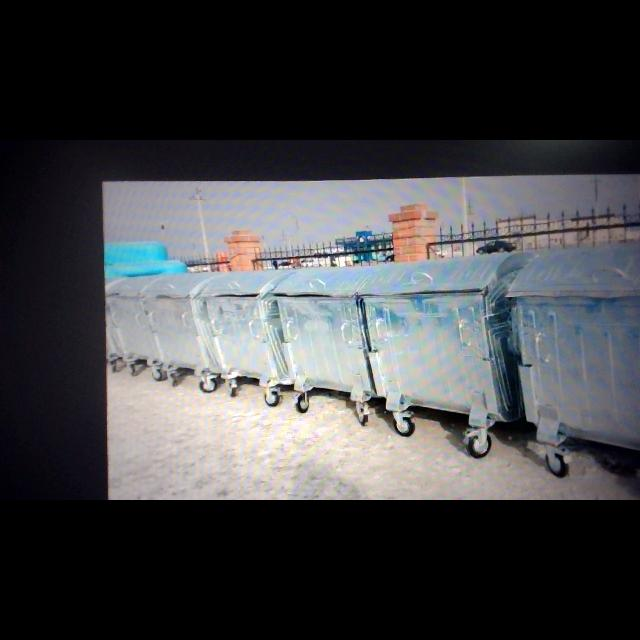Trash_Can_Closed: (358, 251, 533, 423), (506, 239, 640, 453), (272, 266, 379, 395), (201, 269, 293, 384), (140, 270, 226, 375), (107, 275, 160, 363)
